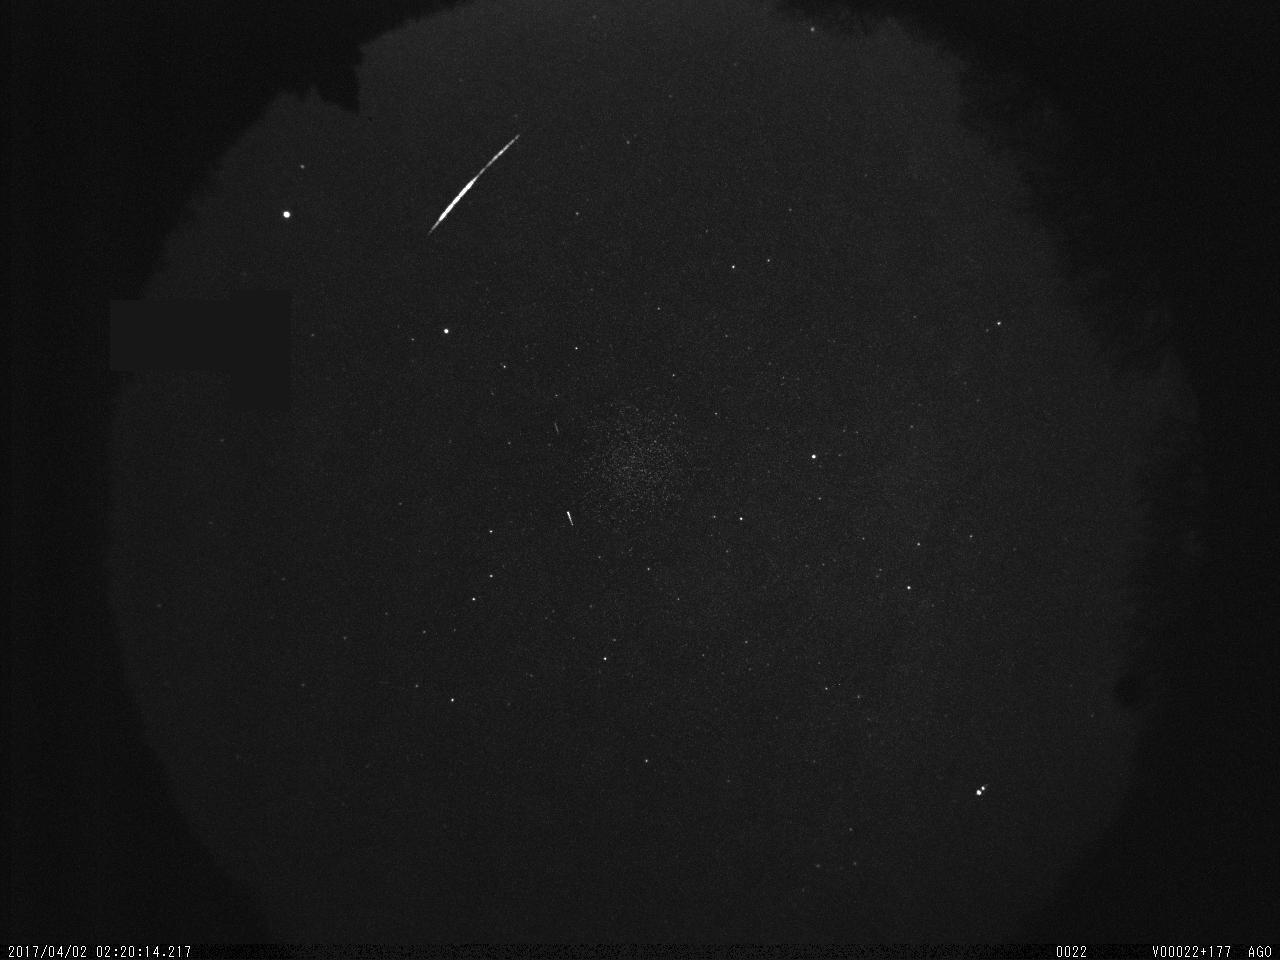meteor: (387, 125, 538, 245)
